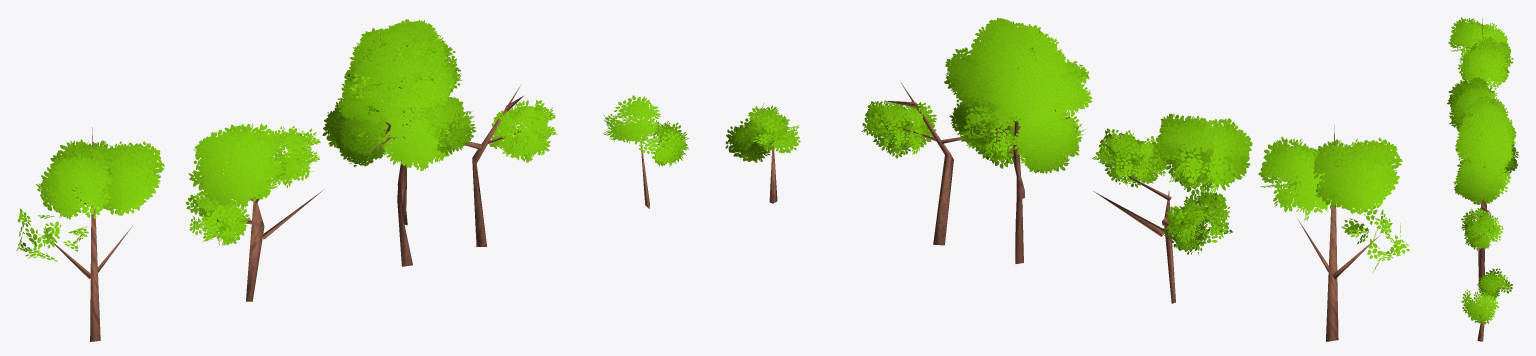
Rendered from Ogro.obj.
The picture shows the model from 3 angles, left to right: view 1: azimuth 30°, elevation 25°; view 2: azimuth 150°, elevation 25°; view 3: azimuth 270°, elevation 25°; orthographic projection. The views are drawn at different scales.
Visible parts, largest first — view 1: NormalTree_1_NormalTree_Leaves, NormalTree_3_NormalTree_Leaves, NormalTree_2_NormalTree_Leaves, NormalTree_4_NormalTree_Leaves, NormalTree_5_NormalTree_Leaves, NormalTree_2_NormalTree_Bark, NormalTree_3_NormalTree_Bark, NormalTree_4_NormalTree_Bark, NormalTree_1_NormalTree_Bark; view 2: NormalTree_1_NormalTree_Leaves, NormalTree_3_NormalTree_Leaves, NormalTree_2_NormalTree_Leaves, NormalTree_4_NormalTree_Leaves, NormalTree_5_NormalTree_Leaves, NormalTree_2_NormalTree_Bark, NormalTree_4_NormalTree_Bark, NormalTree_3_NormalTree_Bark, NormalTree_1_NormalTree_Bark; view 3: NormalTree_1_NormalTree_Leaves, NormalTree_2_NormalTree_Leaves, NormalTree_4_NormalTree_Leaves, NormalTree_5_NormalTree_Leaves, NormalTree_3_NormalTree_Leaves, NormalTree_4_NormalTree_Bark, NormalTree_5_NormalTree_Bark.
Part boxes in pixels (box(x1,y1,x2,y2)): NormalTree_1_NormalTree_Leaves: box(322, 19, 476, 166); NormalTree_3_NormalTree_Leaves: box(185, 123, 320, 245); NormalTree_2_NormalTree_Leaves: box(16, 139, 164, 261); NormalTree_4_NormalTree_Leaves: box(380, 100, 557, 171); NormalTree_5_NormalTree_Leaves: box(603, 95, 689, 166); NormalTree_2_NormalTree_Bark: box(50, 127, 132, 341); NormalTree_3_NormalTree_Bark: box(206, 155, 322, 301); NormalTree_4_NormalTree_Bark: box(465, 85, 523, 246); NormalTree_1_NormalTree_Bark: box(349, 77, 414, 266); NormalTree_1_NormalTree_Leaves: box(944, 17, 1092, 173); NormalTree_3_NormalTree_Leaves: box(1092, 113, 1252, 254); NormalTree_2_NormalTree_Leaves: box(1258, 136, 1409, 272); NormalTree_4_NormalTree_Leaves: box(861, 100, 1033, 168); NormalTree_5_NormalTree_Leaves: box(725, 103, 800, 162); NormalTree_2_NormalTree_Bark: box(1298, 125, 1379, 341); NormalTree_4_NormalTree_Bark: box(884, 83, 1012, 245); NormalTree_3_NormalTree_Bark: box(1093, 159, 1201, 303); NormalTree_1_NormalTree_Bark: box(983, 68, 1070, 263); NormalTree_1_NormalTree_Leaves: box(1453, 95, 1518, 204); NormalTree_2_NormalTree_Leaves: box(1448, 17, 1513, 89); NormalTree_4_NormalTree_Leaves: box(1456, 158, 1511, 250); NormalTree_5_NormalTree_Leaves: box(1461, 268, 1512, 324); NormalTree_3_NormalTree_Leaves: box(1447, 77, 1515, 145); NormalTree_4_NormalTree_Bark: box(1478, 198, 1489, 287); NormalTree_5_NormalTree_Bark: box(1477, 301, 1484, 341).
Size of the model in its own units: 201 by 68.82 by 29.98.
Materials: 2 (2 with a texture image).
